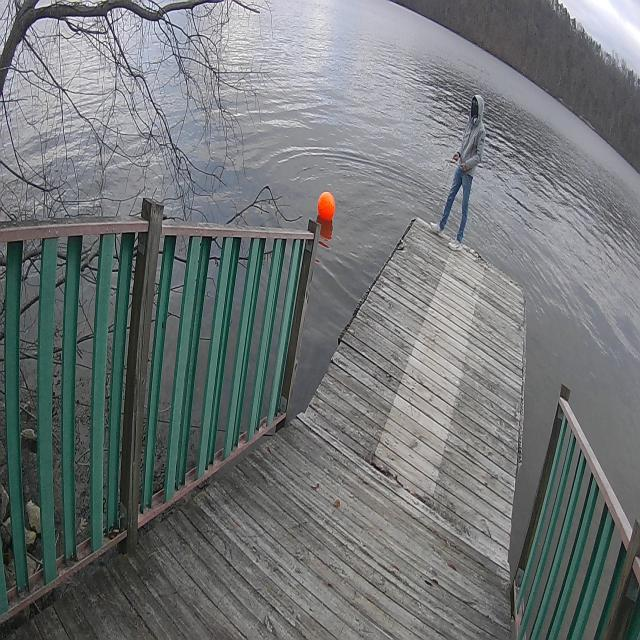Buoy: (316, 187, 339, 230)
